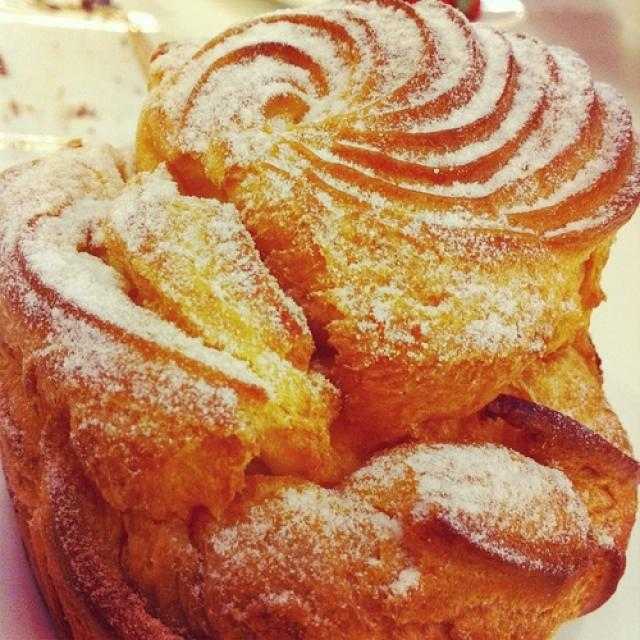炸货点心: (7, 5, 634, 631)
蛋糕甜品: (7, 5, 634, 631)
